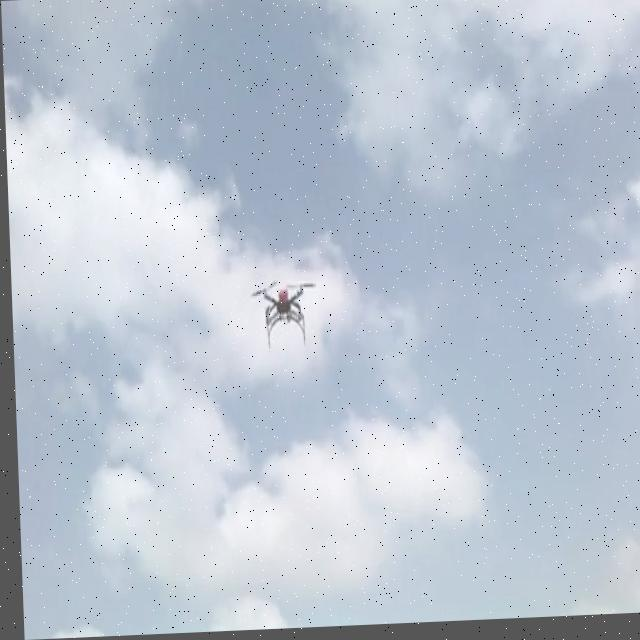drone: (244, 275, 314, 350)
